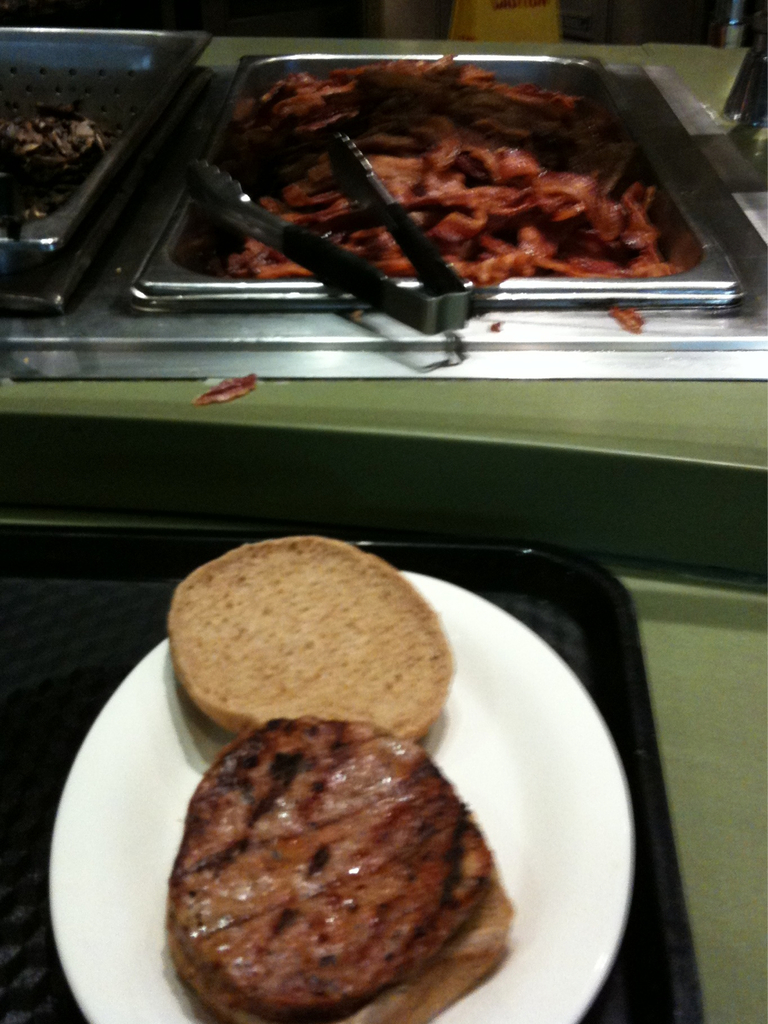Hamburger: (169, 539, 516, 1023)
